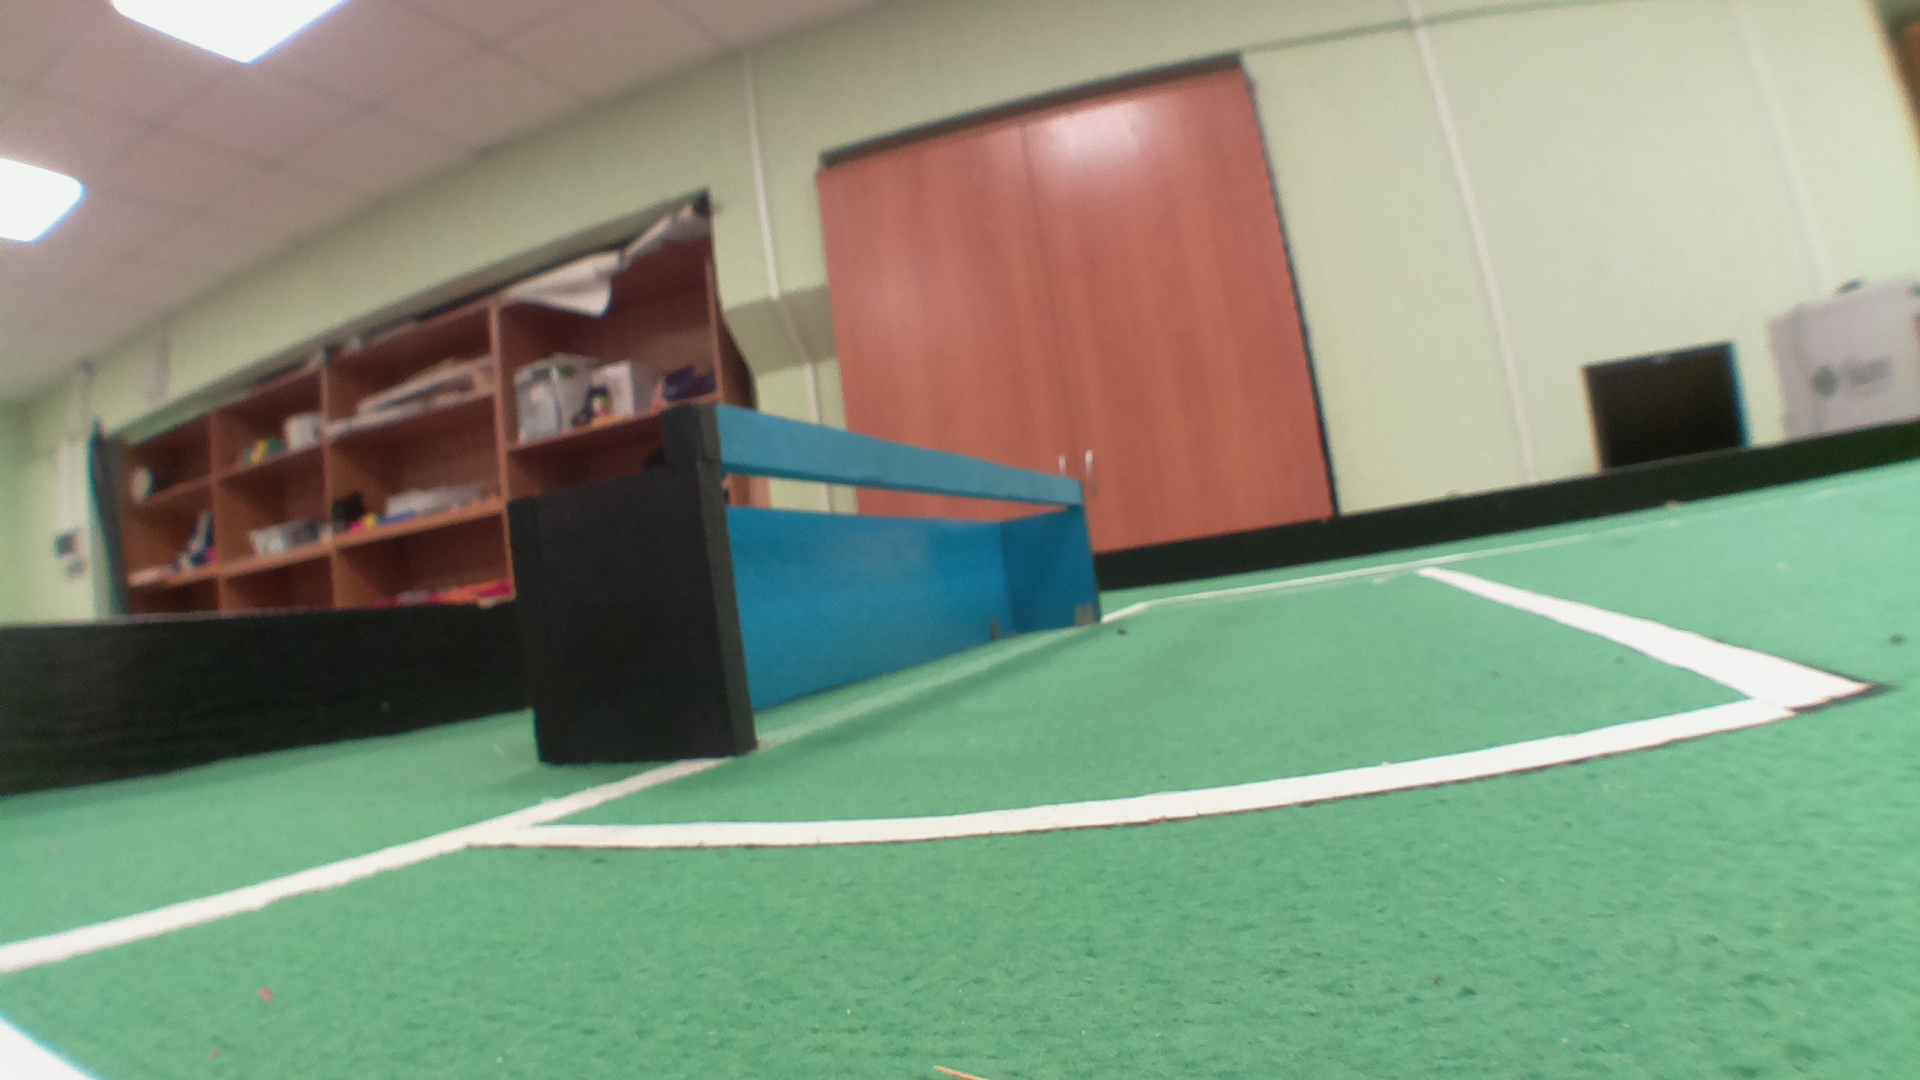BlueGoal: (724, 406, 1096, 655)
